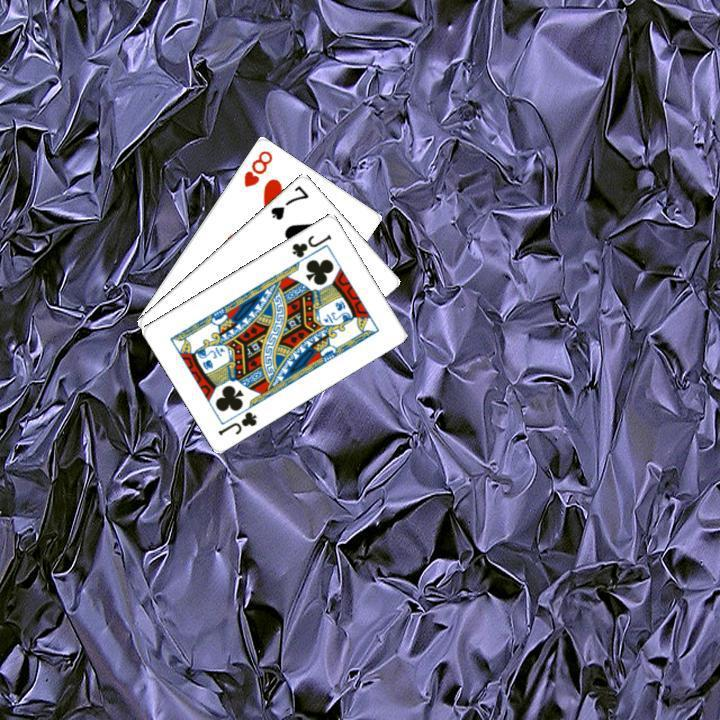7: (266, 180, 311, 222)
8: (239, 145, 274, 189)
J: (287, 229, 334, 260), (213, 407, 259, 437)
